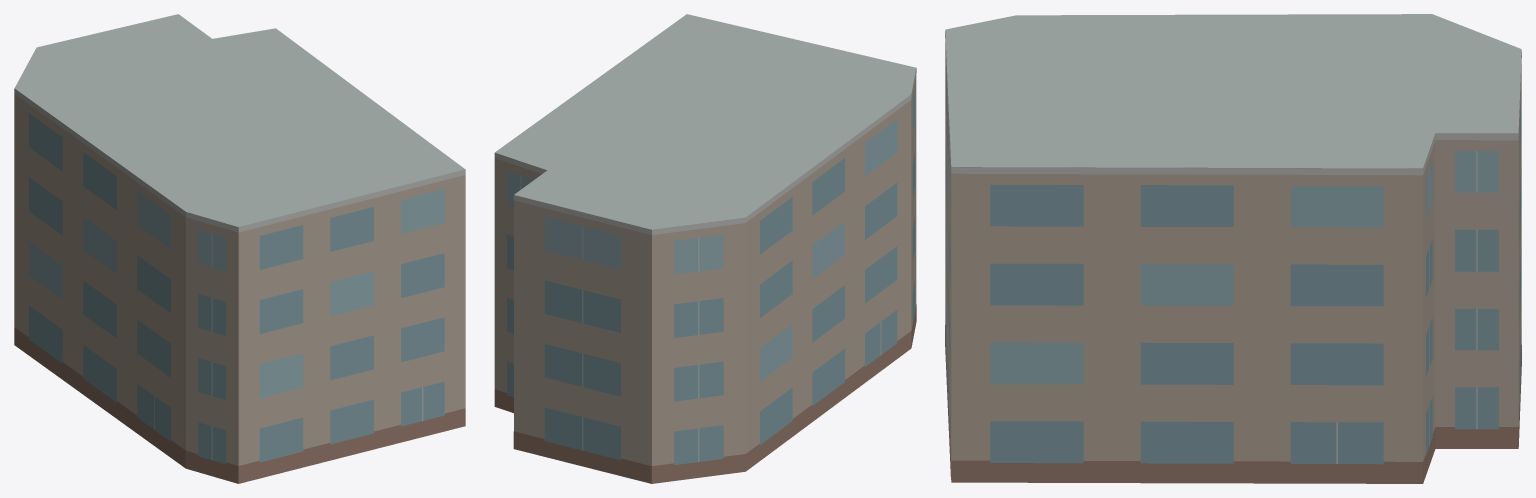
File: survey-upis-32850553.glb
3 views of the same model, side by side, from view 1: azimuth 30°, elevation 25°; view 2: azimuth 150°, elevation 25°; view 3: azimuth 270°, elevation 25° (orthographic). The views are drawn at different scales.
Parts seen in each view (by area): view 1: survey-upis-32850553.tmp; view 2: survey-upis-32850553.tmp; view 3: survey-upis-32850553.tmp.
Boxes of the visible parts, <box> form: survey-upis-32850553.tmp: <box>14,14,465,483</box>; survey-upis-32850553.tmp: <box>494,14,916,483</box>; survey-upis-32850553.tmp: <box>945,14,1521,483</box>.
Size of the model in its own units: 11.98 by 11.4 by 18.89.
